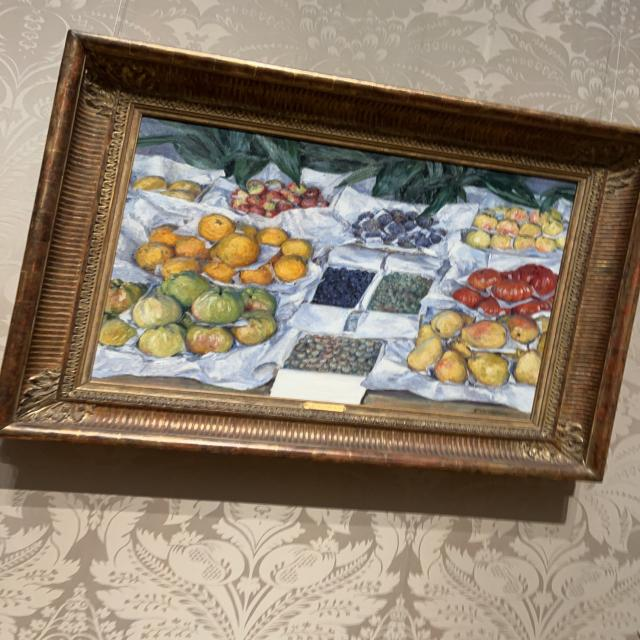fruits: (95, 120, 575, 418)
